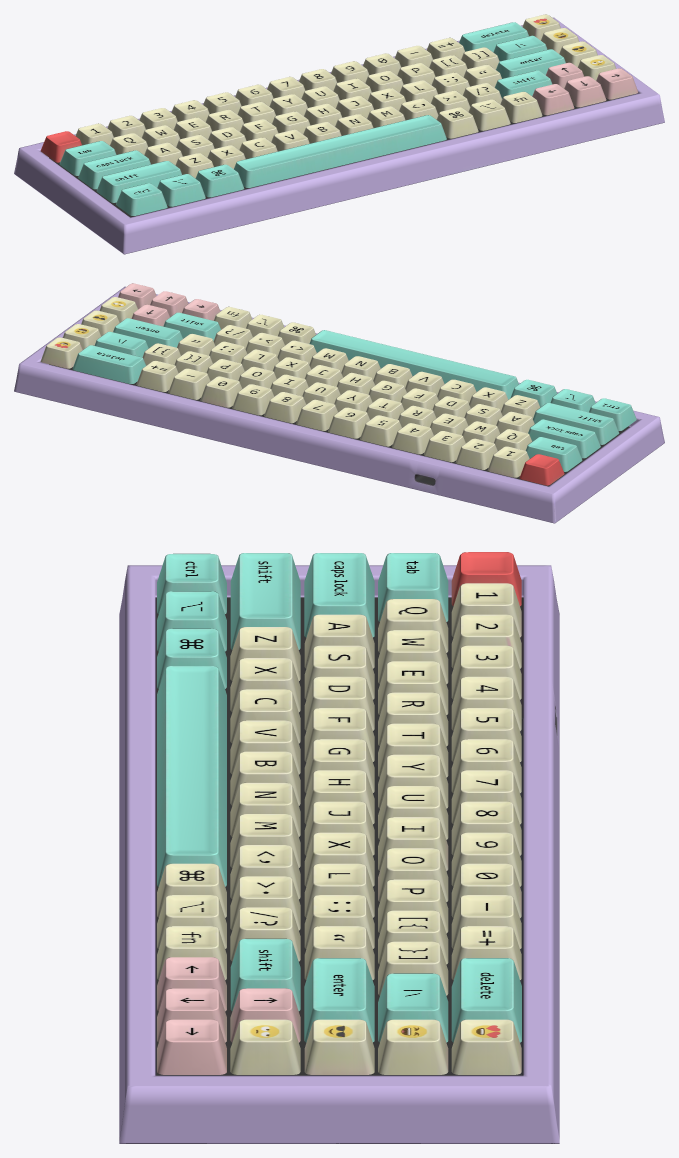
File: mechanical-transformed.glb
The picture shows the model from 3 angles, top to bottom: view 1: azimuth 30°, elevation 25°; view 2: azimuth 150°, elevation 25°; view 3: azimuth 270°, elevation 25°; orthographic projection. The views are drawn at different scales.
Visible parts, largest first — view 1: Object_4, Object_3, Object_2; view 2: Object_4, Object_3, Object_2; view 3: Object_4, Object_3, Object_2.
Part boxes in pixels (x1,y1,x2,y2): Object_4: (40, 14, 638, 178); Object_3: (14, 17, 664, 254); Object_2: (59, 22, 565, 215); Object_4: (40, 283, 564, 485); Object_3: (14, 286, 664, 523); Object_2: (72, 312, 636, 471); Object_4: (157, 552, 521, 1074); Object_3: (119, 565, 559, 1143); Object_2: (157, 553, 521, 1042).
Size of the model in its own units: 3.39 by 0.249 by 1.19.
Materials: 3 (3 with a texture image).
